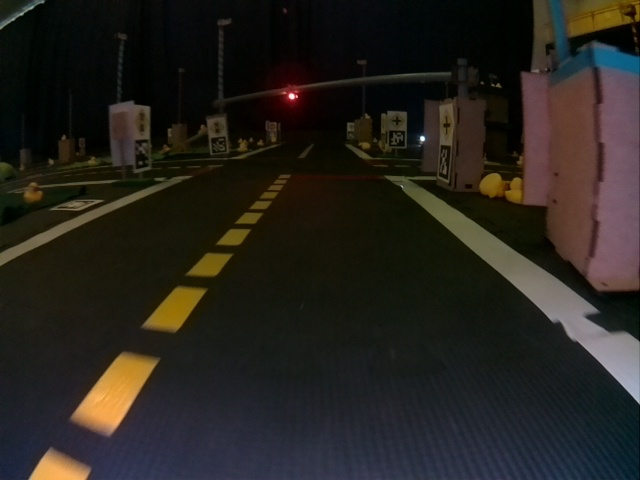Duckie: (480, 176, 504, 197), (506, 177, 523, 203), (25, 183, 43, 202)
Intersection sign: (440, 107, 453, 141), (389, 112, 404, 128)
QR code: (134, 139, 150, 170), (439, 144, 449, 180), (389, 130, 406, 148), (211, 136, 227, 153)
Signal sign: (134, 106, 148, 137), (209, 118, 223, 134)
Traffic light: (288, 93, 297, 101)
